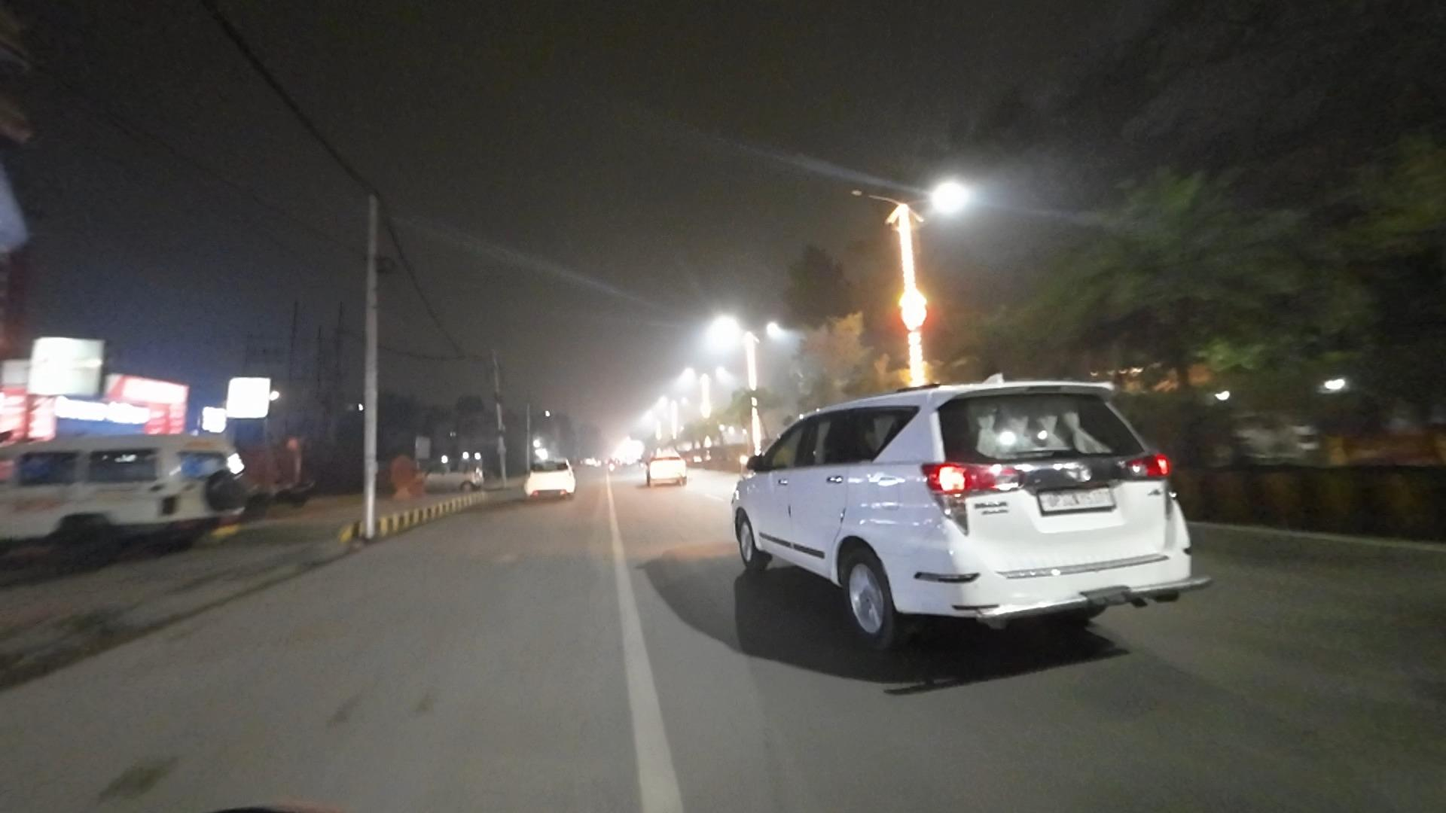streetlight: (850, 186, 897, 206)
